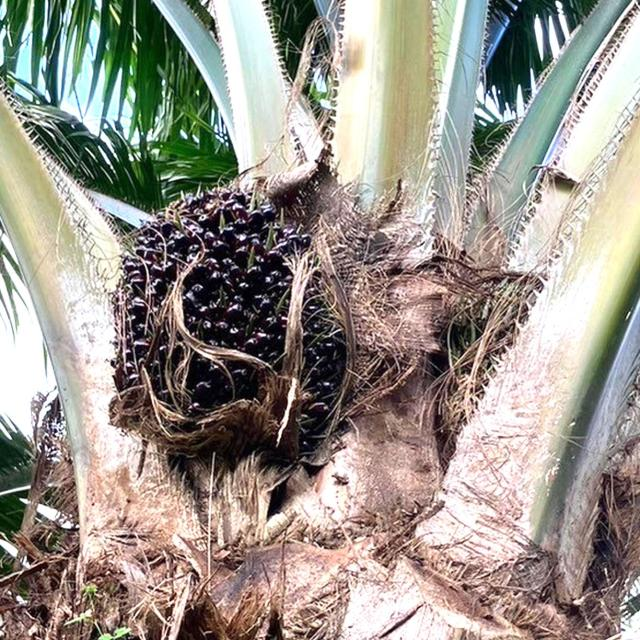ripe: (102, 183, 351, 471)
